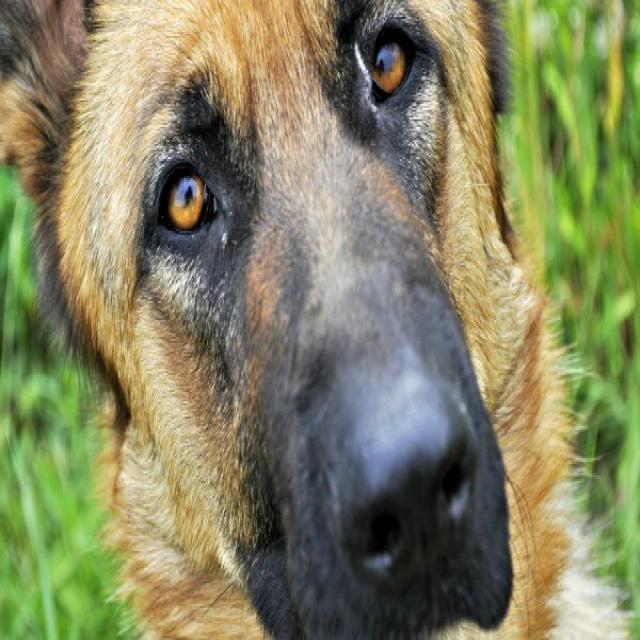eye: (148, 157, 227, 249), (365, 15, 422, 114)
